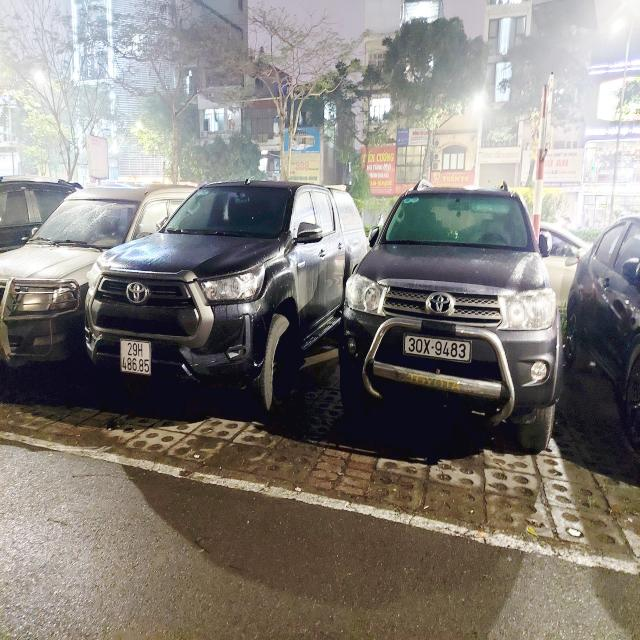license_plate: (403, 330, 477, 367), (118, 338, 157, 379)
